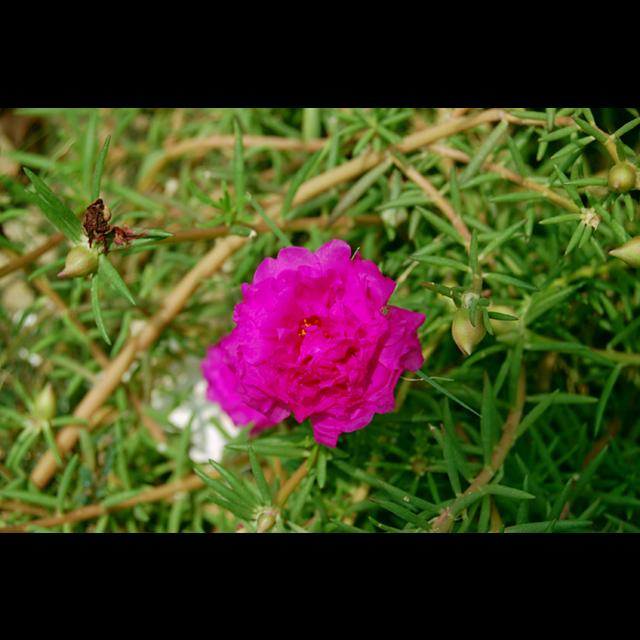Flower: (204, 238, 422, 456)
